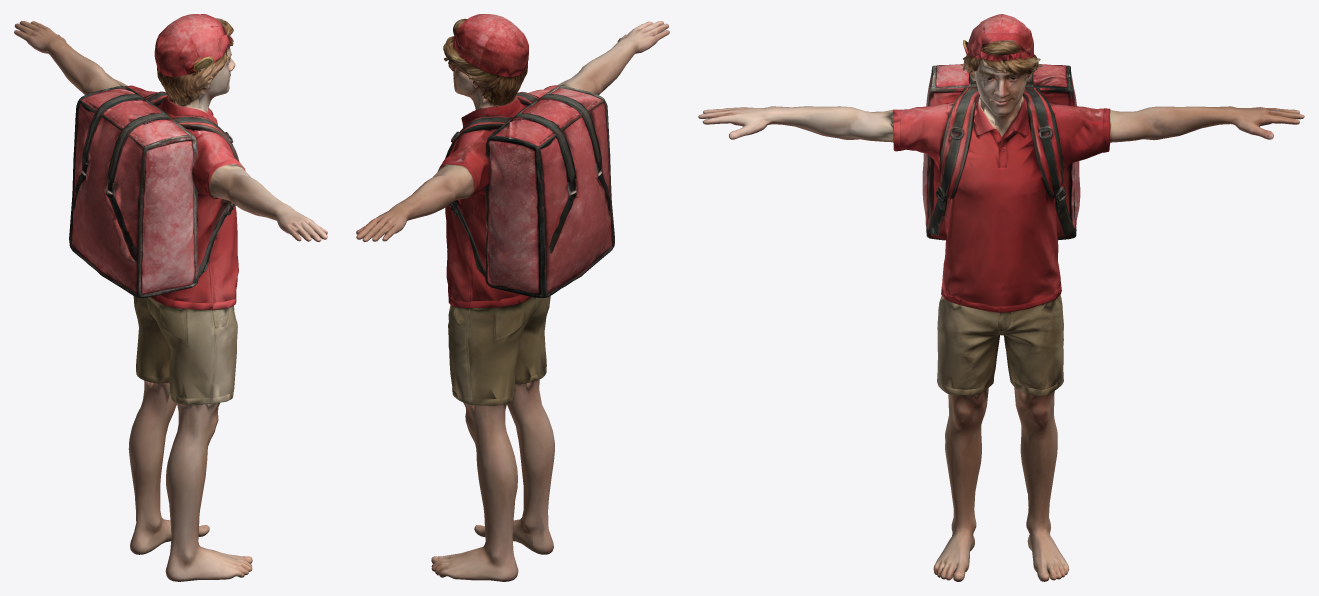
File: the-pizza.glb
The picture shows the model from 3 angles, left to right: view 1: azimuth 30°, elevation 25°; view 2: azimuth 150°, elevation 25°; view 3: azimuth 270°, elevation 25°; orthographic projection.
Visible parts, largest first — view 1: 19-pizza; view 2: 19-pizza; view 3: 19-pizza.
Boxes of the visible parts, x1=… form: 19-pizza: x1=14, y1=14, x2=327, y2=581; 19-pizza: x1=356, y1=14, x2=669, y2=581; 19-pizza: x1=698, y1=14, x2=1304, y2=581.
Size of the model in its own units: 0.271 by 0.9781 by 0.9799.
1 material, 1 textured.
